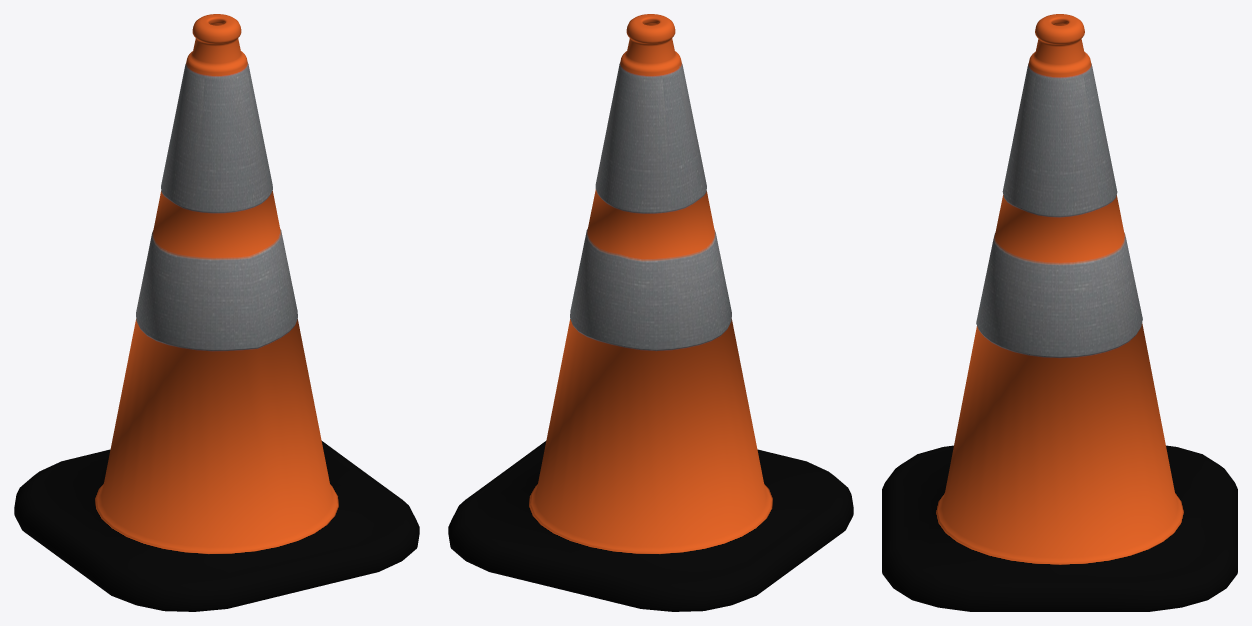
The model's file is m_traffic_cone_01.glb.
3 renders of one model, left to right at view 1: azimuth 30°, elevation 25°; view 2: azimuth 150°, elevation 25°; view 3: azimuth 270°, elevation 25°, orthographic. The views are drawn at different scales.
Visible parts, largest first — view 1: traffic cone; view 2: traffic cone; view 3: traffic cone.
Boxes of the visible parts, x1,y1,x2,y2 form: traffic cone: (14, 14, 419, 611); traffic cone: (448, 14, 853, 611); traffic cone: (882, 14, 1237, 611).
Bounding box in the file's own units: 0.3807 × 0.6133 × 0.3807.
1 material, 1 textured.
